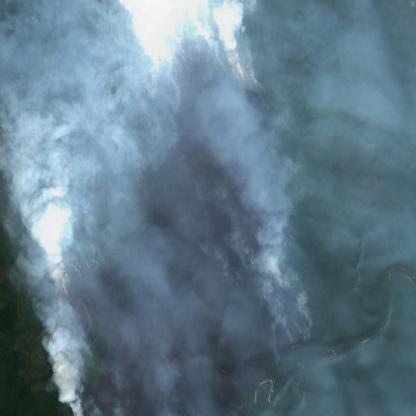fire: (139, 0, 278, 133), (222, 222, 317, 355), (51, 246, 113, 416)
